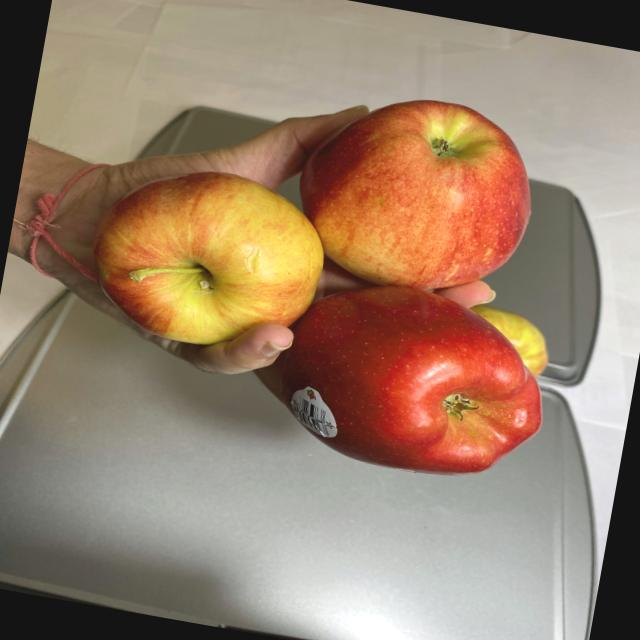apple: (55, 42, 600, 492)
